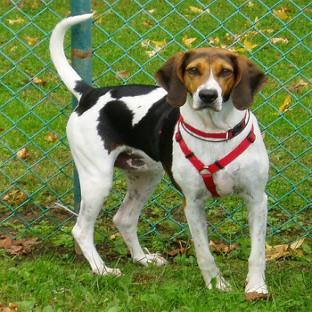Animal: (50, 13, 268, 295)
